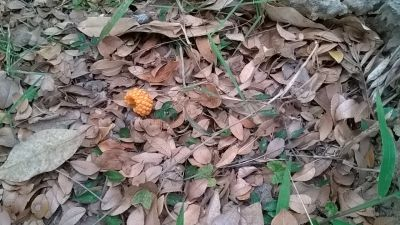eggs: (123, 86, 156, 116)
